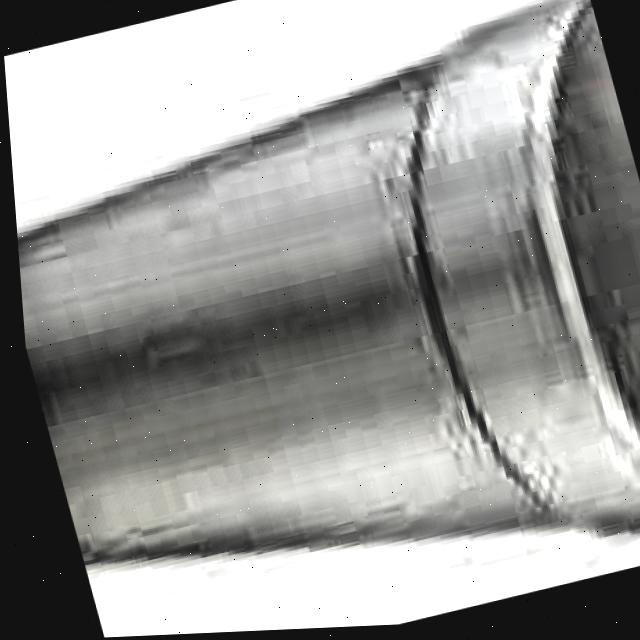paper: (1, 0, 640, 640)
